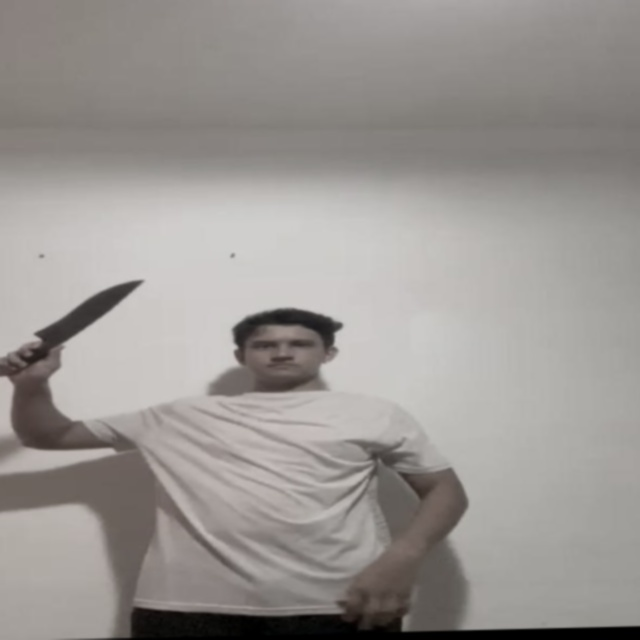Sharp-Object: (33, 278, 150, 340)
